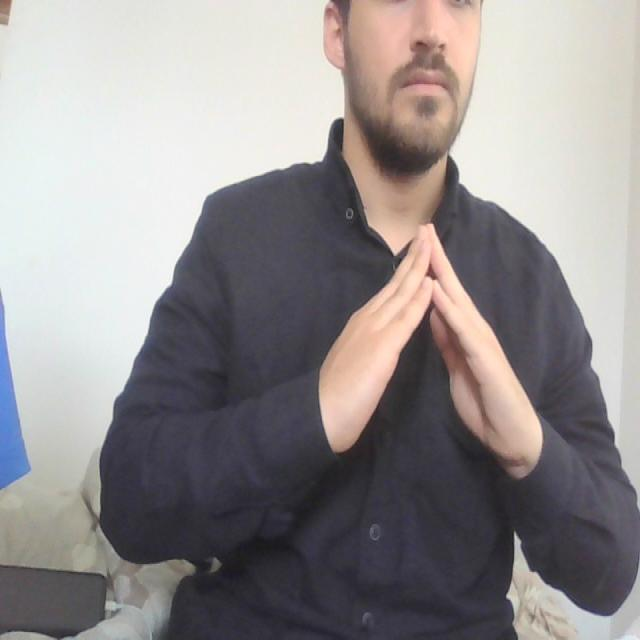Ev: (310, 215, 548, 483)
